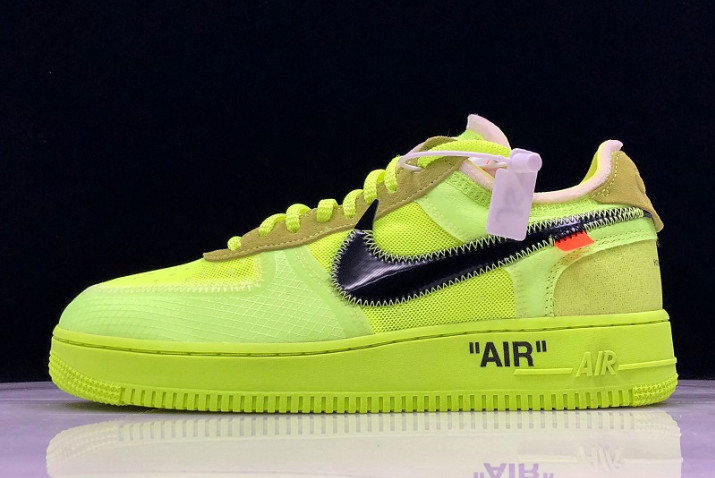Air Force One Volt: (31, 108, 686, 422)
